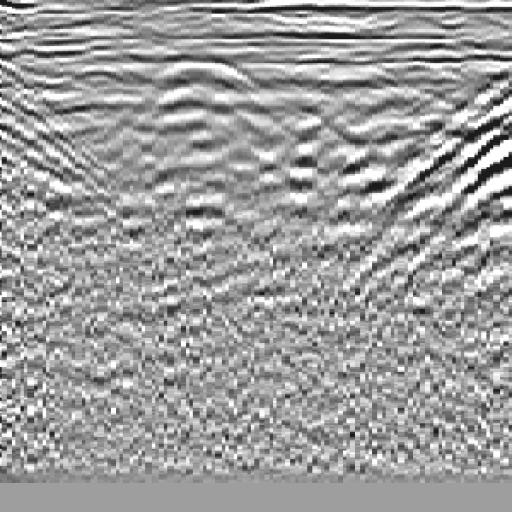metalic: (136, 33, 294, 269)
nonmetalic: (379, 47, 512, 273)
